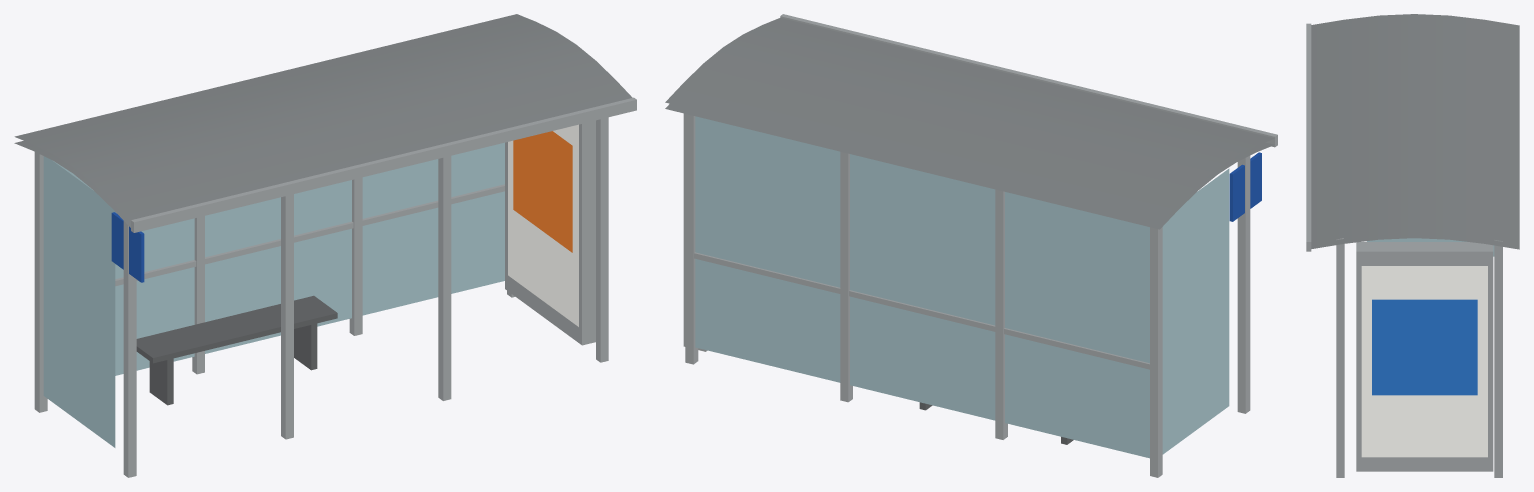
File: nyc_bus_shelter.glb
3 views of the same model, side by side, from view 1: azimuth 30°, elevation 25°; view 2: azimuth 150°, elevation 25°; view 3: azimuth 270°, elevation 25° (orthographic). The views are drawn at different scales.
Visible parts, largest first — view 1: nyc_bus_shelter; view 2: nyc_bus_shelter; view 3: nyc_bus_shelter.
Part boxes in pixels (x1,y1,x2,y2): nyc_bus_shelter: (14,14,636,477); nyc_bus_shelter: (665,14,1277,477); nyc_bus_shelter: (1306,14,1519,477).
Size of the model in its own units: 4.9 by 2.62 by 2.02.
1 material, 1 textured.
